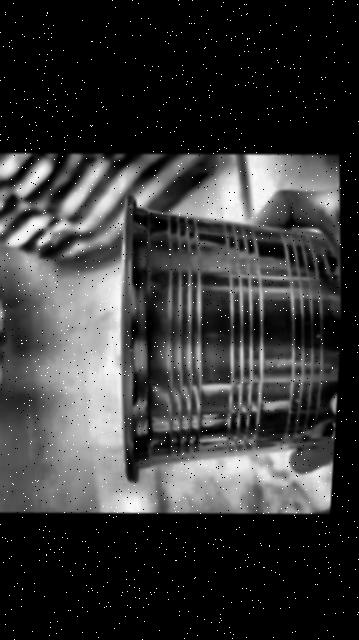pot: (120, 198, 340, 479)
